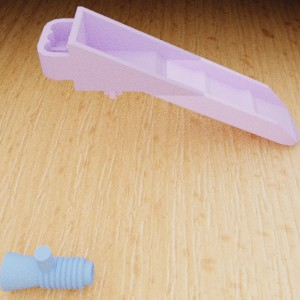lego: (37, 6, 300, 145), (0, 245, 94, 291)
